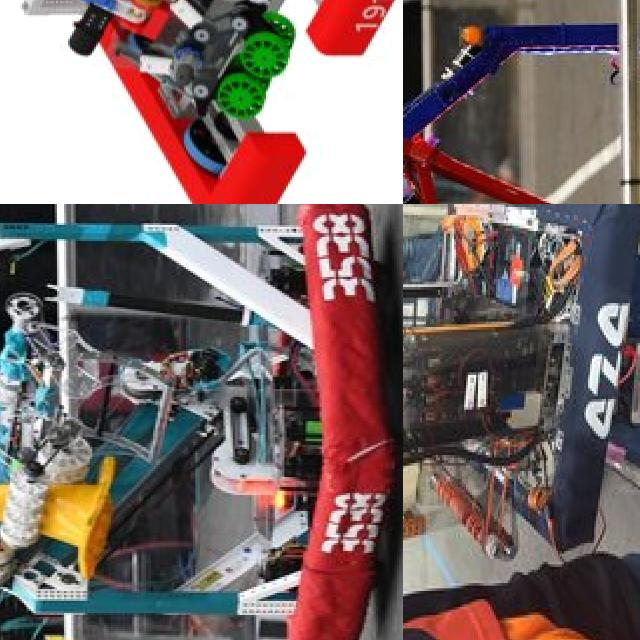FRC-Robots: (0, 204, 403, 640), (403, 204, 640, 589), (0, 0, 403, 204), (403, 0, 640, 204)
